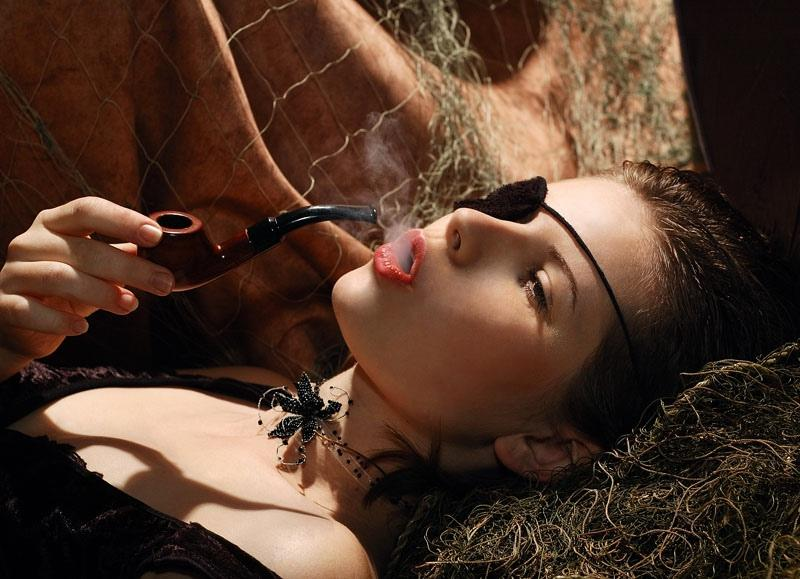trubka: (139, 205, 377, 291)
